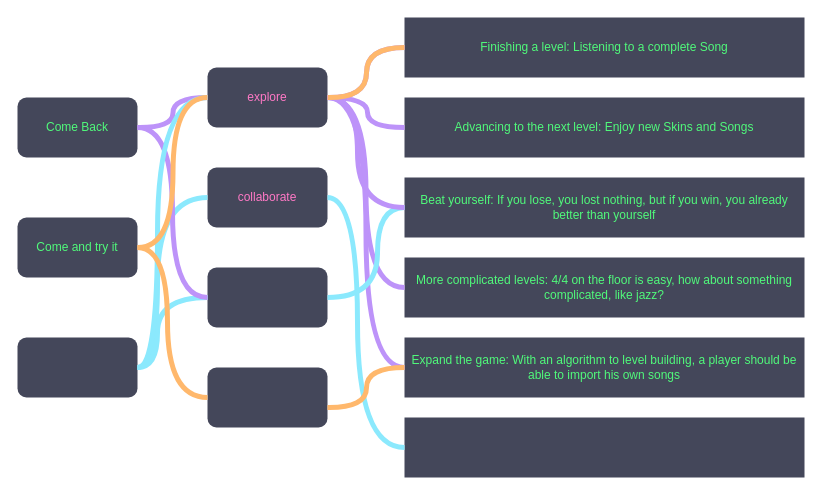
Some shapes in this 821 by 494 pixel diagram are drawn without their labels. The centre of each missing label's shape, as x and y in pixels:
"compete" goes at point (267, 297).
"Cooperative Multiplayer: Master the levels together with your dearest (NIS)" goes at point (604, 447).
"express/create" goes at point (267, 397).
"Share it with a Friend" goes at point (77, 367).
